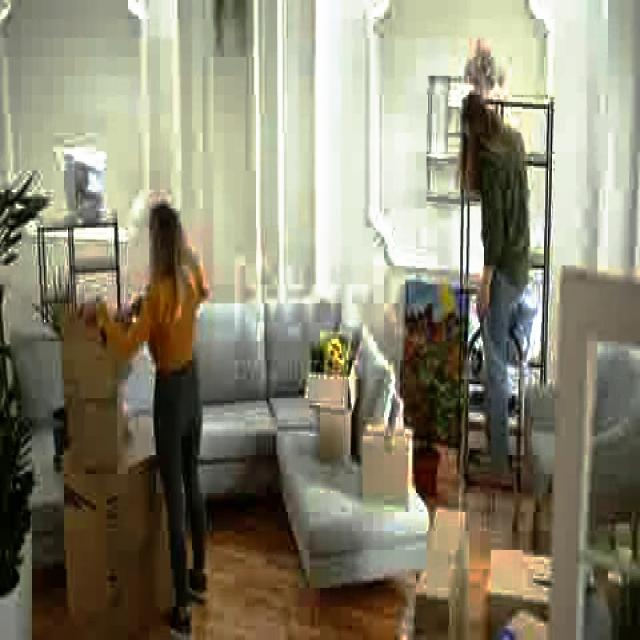Box: (65, 481, 168, 626), (418, 498, 478, 618), (59, 311, 117, 391), (477, 548, 552, 609), (352, 436, 408, 503), (62, 403, 122, 462), (308, 382, 353, 458)
